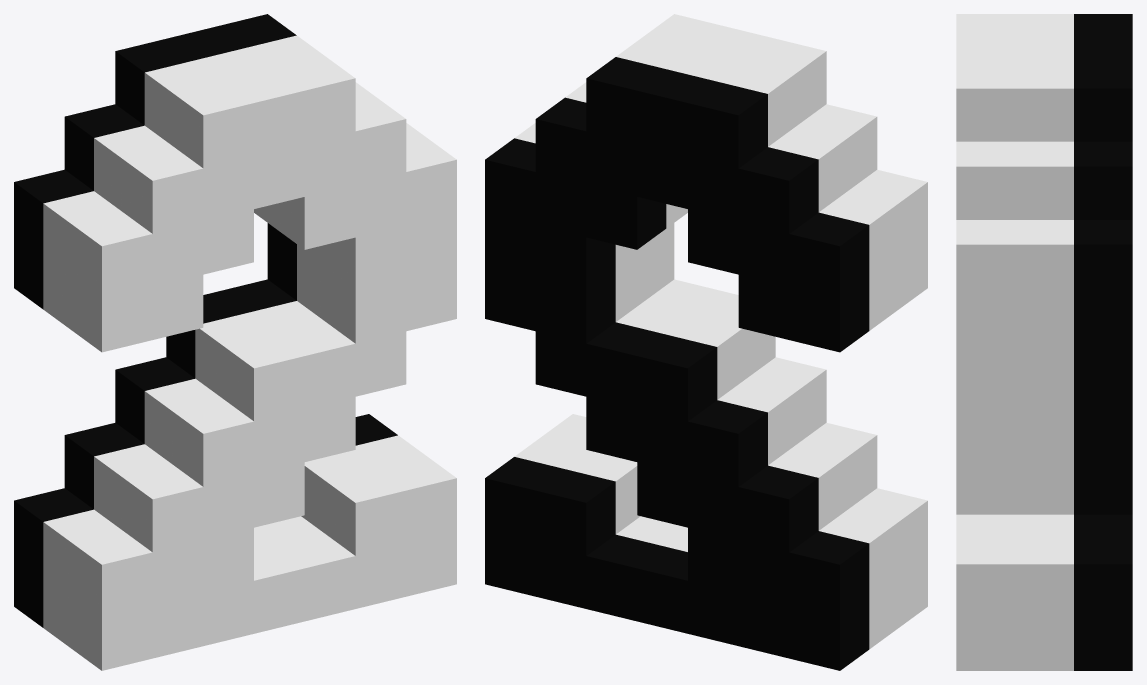
The picture shows the model from 3 angles, left to right: view 1: azimuth 30°, elevation 25°; view 2: azimuth 150°, elevation 25°; view 3: azimuth 270°, elevation 25°; orthographic projection.
Visible parts, largest first — view 1: Untitled; view 2: Untitled; view 3: Untitled.
Boxes of the visible parts, box(x1,y1,x2,y2) form: Untitled: box(14, 14, 456, 670); Untitled: box(485, 14, 927, 670); Untitled: box(956, 14, 1132, 670).
Bounding box in the file's own units: 0.7 × 1 × 0.3.
1 material, 1 textured.
